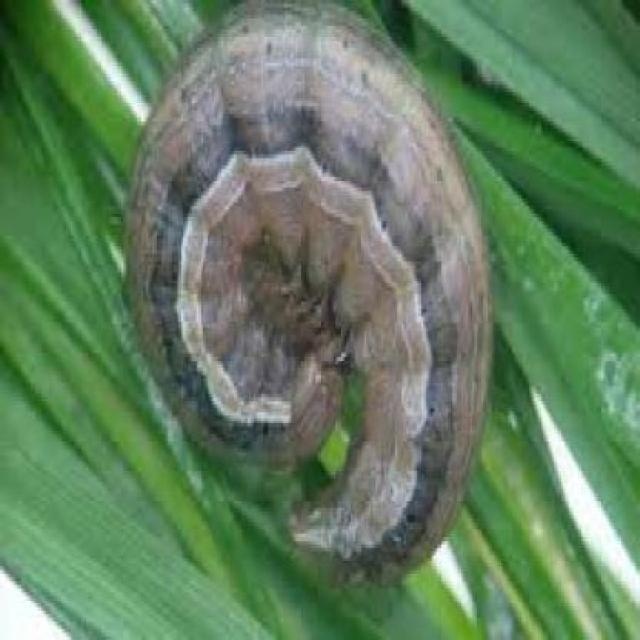Plaga: (112, 1, 506, 612)
